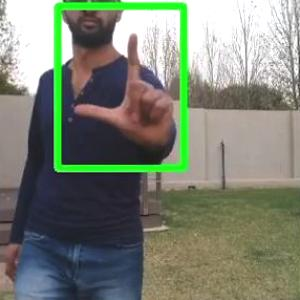land_hand: (70, 22, 180, 149)
